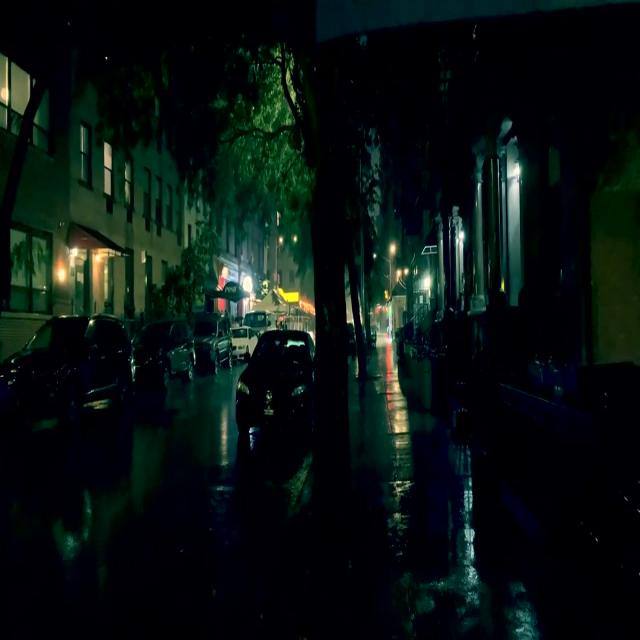Car: (9, 309, 132, 433), (235, 332, 314, 434), (192, 313, 230, 369)
